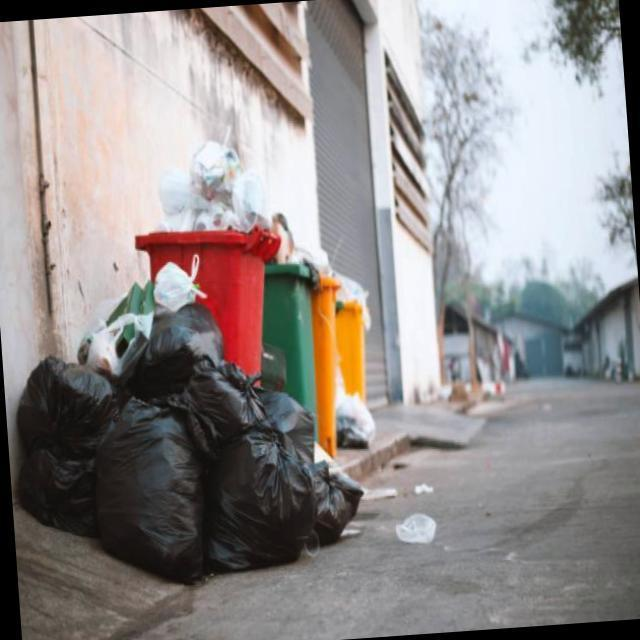garbage: (8, 243, 364, 603), (144, 119, 272, 239), (332, 364, 380, 460), (272, 208, 334, 276), (334, 266, 370, 322)
